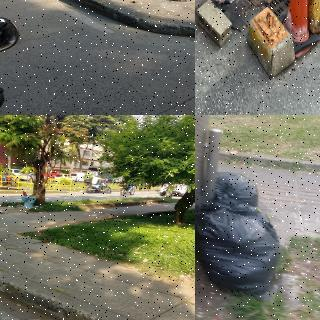Garbage: (195, 201, 290, 301), (210, 169, 260, 212)
